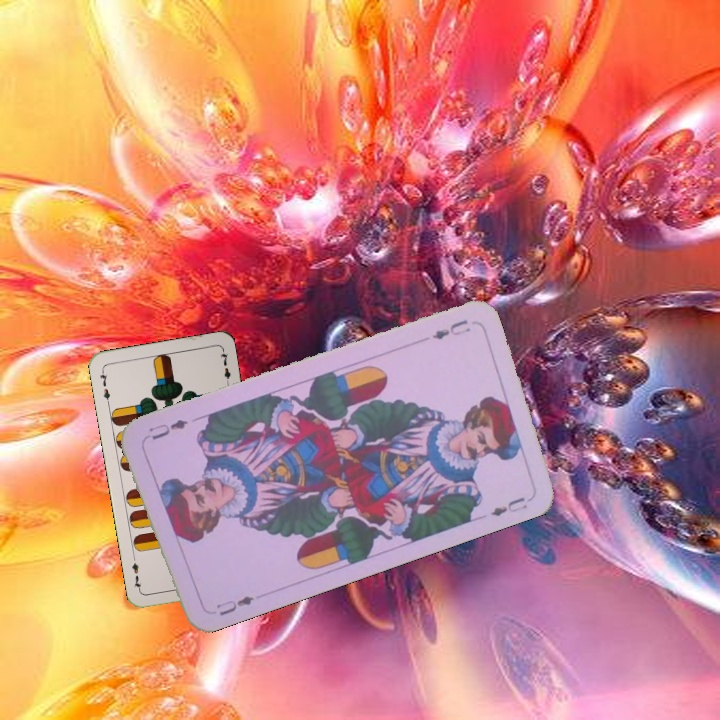E7: (96, 366, 113, 406)
EU: (428, 315, 473, 342), (212, 592, 256, 619)
